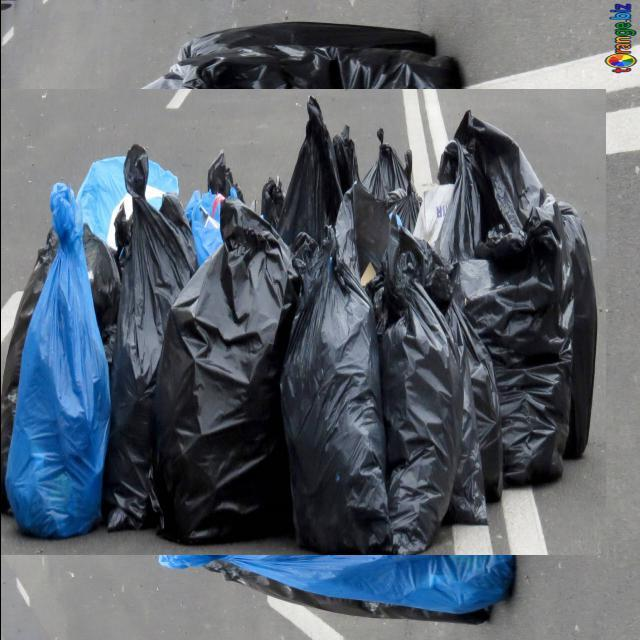Single-layer Plastic: (436, 111, 598, 485), (155, 200, 295, 543), (281, 225, 394, 553), (6, 182, 110, 538), (104, 145, 194, 530), (375, 224, 462, 554), (279, 98, 419, 276), (159, 554, 516, 623), (148, 22, 461, 88), (76, 156, 126, 241)
